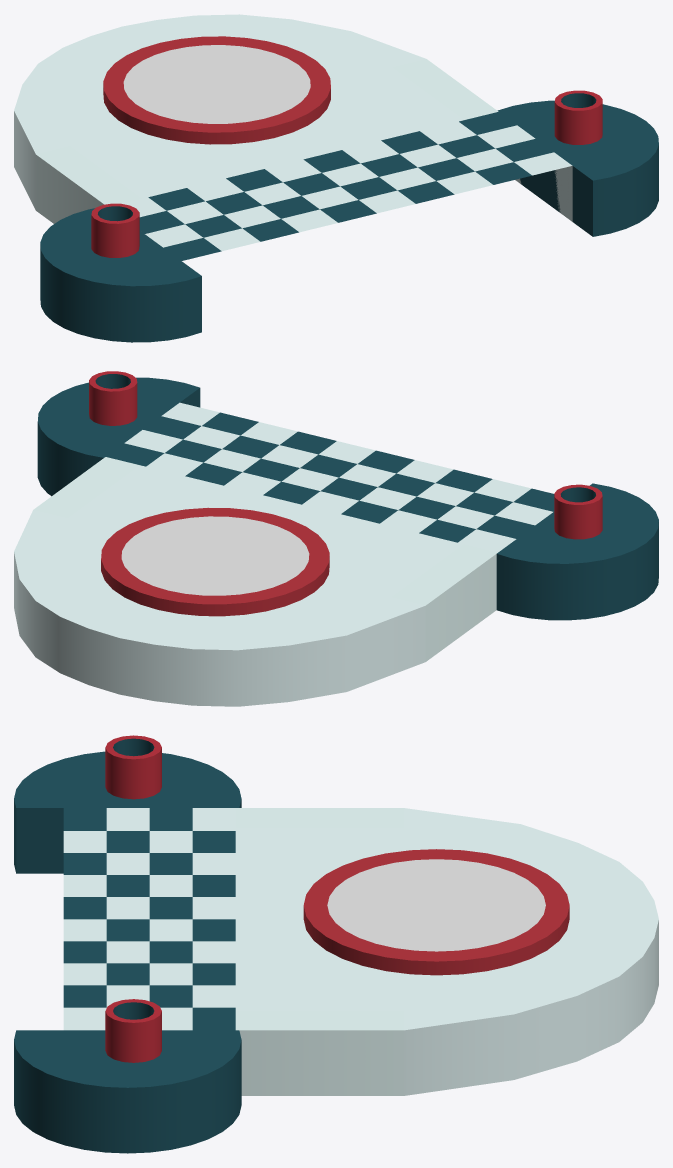
File: son_ksm 1.fbx
The picture shows the model from 3 angles, top to bottom: view 1: azimuth 30°, elevation 25°; view 2: azimuth 150°, elevation 25°; view 3: azimuth 270°, elevation 25°; orthographic projection. The views are drawn at different scales.
Visible parts, largest first — view 1: Cube.002, Circle.001, Cube.003, Circle; view 2: Cube.002, Cube.003, Circle.001, Circle; view 3: Cube.002, Circle.001, Cube.003, Circle.
Boxes of the visible parts, bbox=[...] form: Cube.002: bbox=[14, 14, 498, 223]; Circle.001: bbox=[40, 90, 658, 342]; Cube.003: bbox=[122, 112, 572, 260]; Circle: bbox=[103, 36, 330, 144]; Cube.002: bbox=[14, 457, 497, 706]; Cube.003: bbox=[106, 402, 554, 552]; Circle.001: bbox=[37, 371, 658, 620]; Circle: bbox=[101, 507, 329, 616]; Cube.002: bbox=[235, 808, 658, 1095]; Circle.001: bbox=[14, 735, 241, 1153]; Cube.003: bbox=[63, 808, 235, 1030]; Circle: bbox=[303, 849, 569, 975].
Bounding box in the file's own units: 364 × 53.15 × 294.
